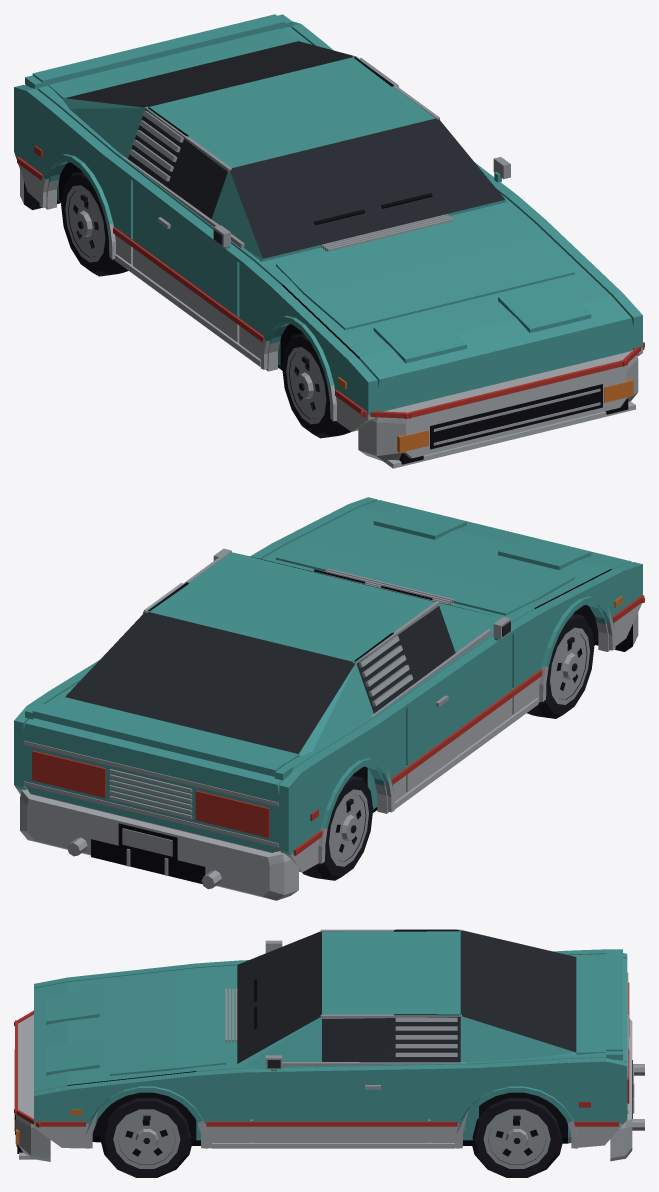
The model's file is car_town.glb.
3 views of the same model, one above another, from view 1: azimuth 30°, elevation 25°; view 2: azimuth 150°, elevation 25°; view 3: azimuth 270°, elevation 25° (orthographic). The views are drawn at different scales.
Parts seen in each view (by area): view 1: wedge-coupe-80s, wheel-fl, wheel-rl; view 2: wedge-coupe-80s, wheel-rl, wheel-fl; view 3: wedge-coupe-80s, wheel-fr, wheel-rr.
Part boxes in pixels (<box>): wedge-coupe-80s: <box>14,14,644,468</box>; wheel-fl: <box>282,333,350,438</box>; wheel-rl: <box>61,171,128,276</box>; wedge-coupe-80s: <box>14,497,644,900</box>; wheel-rl: <box>302,776,373,880</box>; wheel-fl: <box>527,614,594,718</box>; wedge-coupe-80s: <box>14,929,644,1161</box>; wheel-fr: <box>100,1098,192,1177</box>; wheel-rr: <box>471,1098,563,1177</box>.
Size of the model in its own units: 1.98 by 1.21 by 4.47.
